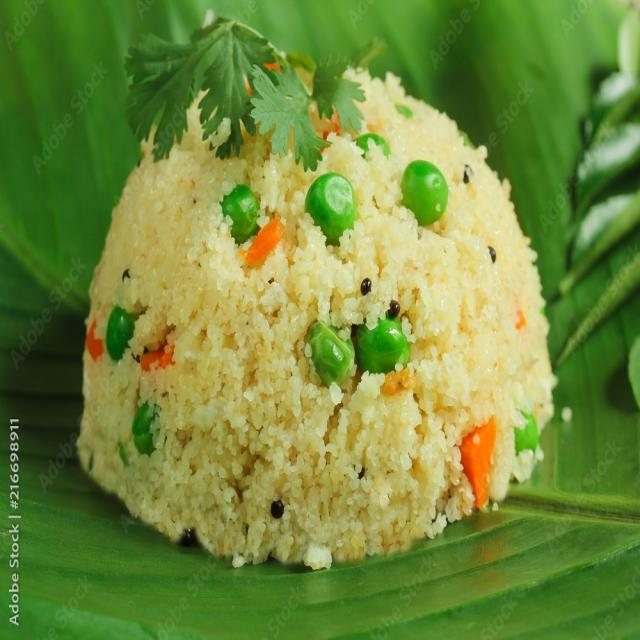UPMA: (75, 23, 556, 569)
